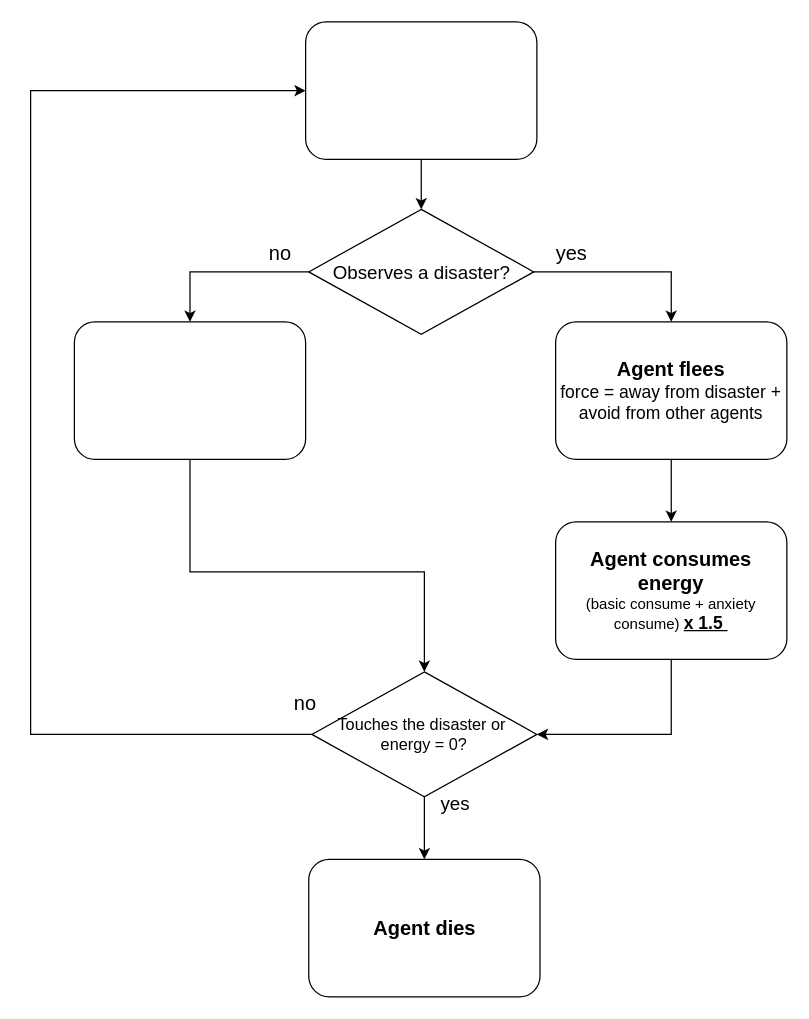
Some shapes in this 809 by 1019 pixel diagram are drawn without their labels. The shapes that lost their labels are listed below. From the top down, each one's centre as x and y in pixels, then its label:
At point 420,90: "Agent wanders Random direction and moves slowly".
At point 189,390: "Agent consumes energy basic consume + anxiety consume".
